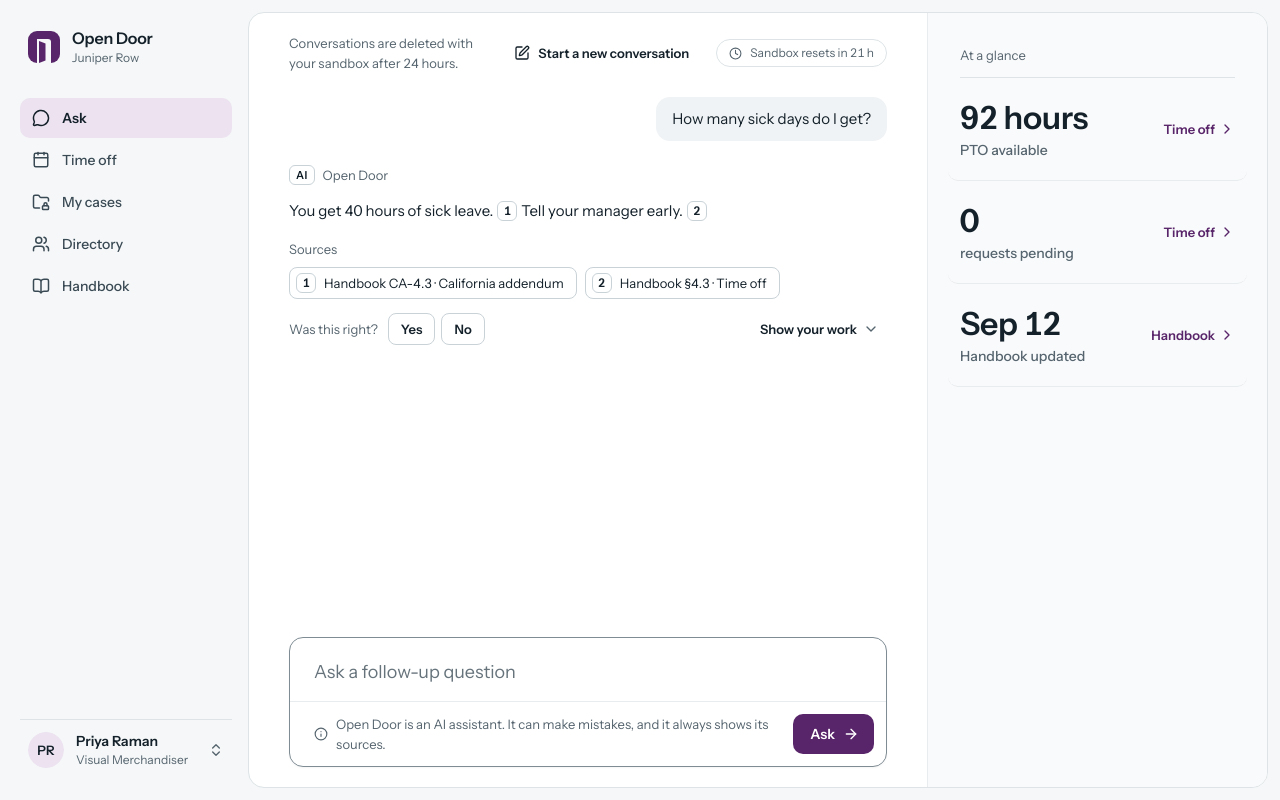
Test: the home and the conversation › offers a new conversation when the API says this one cannot go on (409 conversation-outdated)
Type "Another question" into the text box named "Ask Open Door" at [588, 666], box [290,638,886,694]
Then press Enter
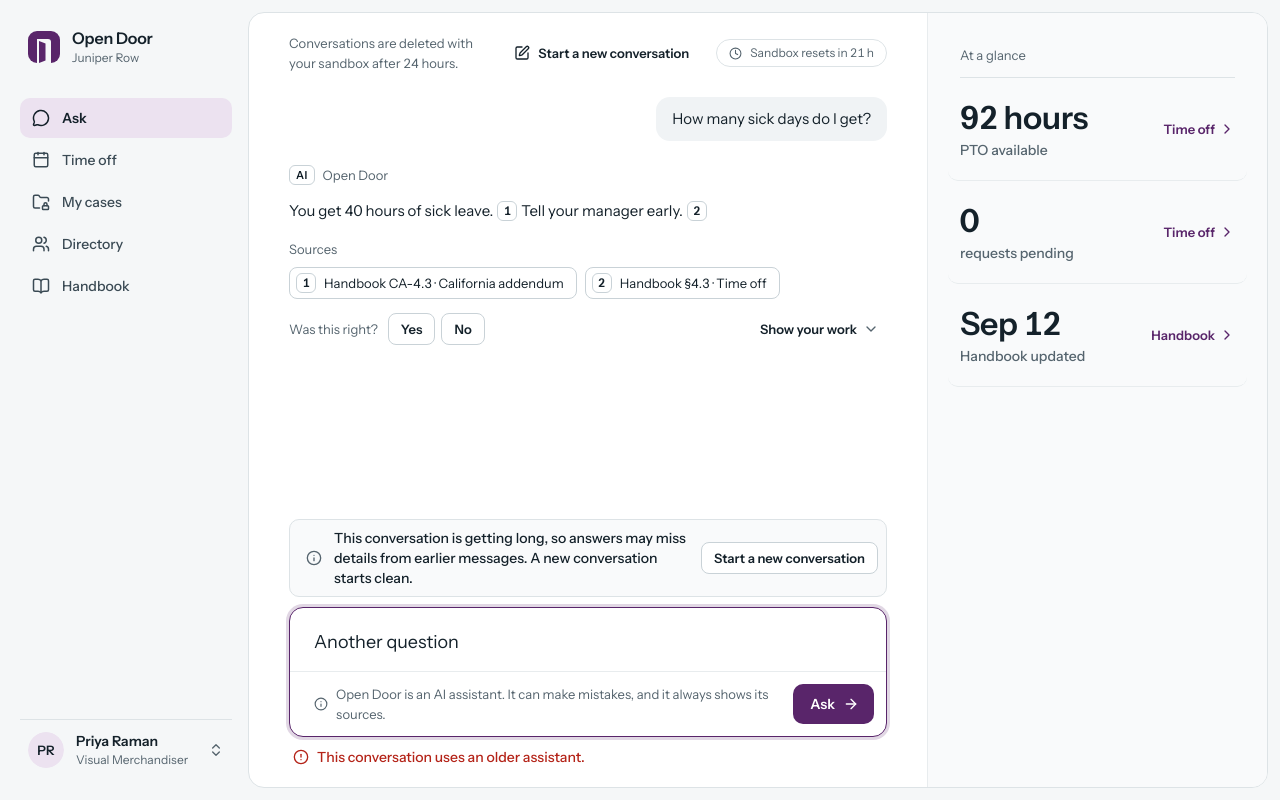
expect the message reads "This conversation uses an older assistant.": met, box [317,748,585,766]
expect the number of buttons "Start a new conversation" is 2: met, box [503,37,700,69]; [701,542,878,574]
expect the text "This conversation is getting long" is shown: met, box [334,529,686,587]
